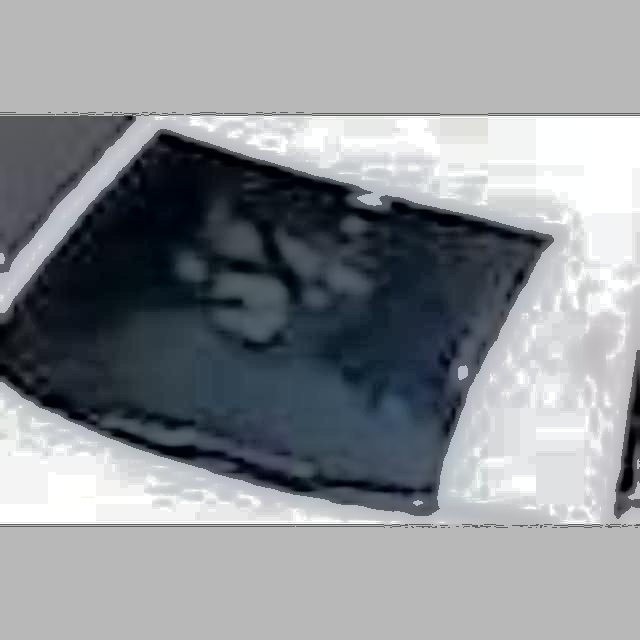pakai: (171, 165, 360, 372)
